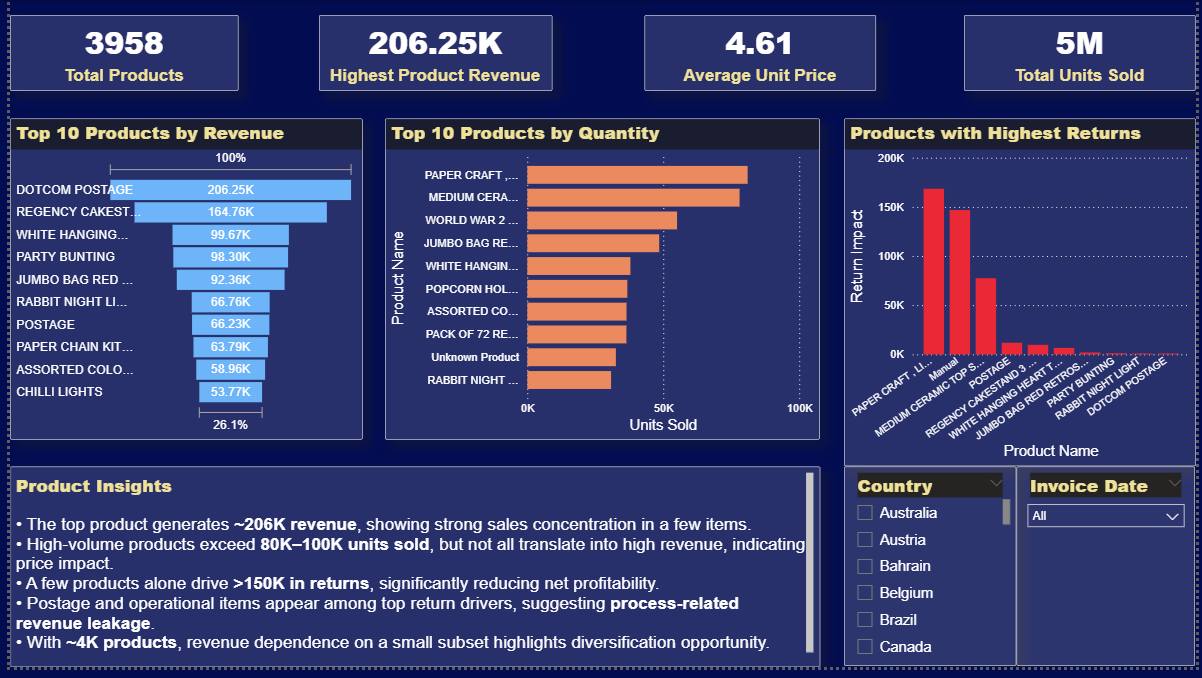

The dashboard page shown, as its layout file describes it:
{"tool":"powerbi","page":{"name":"Product Performance ","canvas":[1280,720],"ordinal":2},"visuals":[{"type":"card","fields":{"Values":["uk_ecommerce_bi_ready.Total Products"]},"box":[0,16.7,246.7,81.7],"z":0},{"type":"card","fields":{"Values":["uk_ecommerce_bi_ready.Top Product Revenue"]},"box":[333.3,16.7,251.7,81.7],"z":1000},{"type":"card","fields":{"Values":["Avg(uk_ecommerce_bi_ready.UnitPrice)"]},"box":[685,16.7,250,81.7],"z":2000},{"type":"card","fields":{"Values":["Sum(uk_ecommerce_bi_ready.Quantity)"]},"box":[1030,16.7,250,81.7],"z":3000},{"type":"clusteredBarChart","title":"Top 10 Products by Quantity","fields":{"Category":["uk_ecommerce_bi_ready.Description"],"Y":["Customer Summary.Units Sold"]},"box":[404.8,127.9,469.6,346.5],"z":4000},{"type":"funnel","title":"Top 10 Products by Revenue","fields":{"Category":["uk_ecommerce_bi_ready.Description"],"Y":["uk_ecommerce_bi_ready.Total Revenue"]},"box":[0,127.9,380.5,346.5],"z":5000},{"type":"clusteredColumnChart","title":"Products with Highest Returns","fields":{"Category":["uk_ecommerce_bi_ready.Description"],"Y":["uk_ecommerce_bi_ready.Product Return Impact"]},"box":[900,128.3,380,375],"z":6000},{"type":"textbox","box":[0,503.6,874.4,217],"z":7000},{"type":"slicer","fields":{"Values":["uk_ecommerce_bi_ready.Country"]},"box":[900.3,503.6,186.2,215.4],"z":8000},{"type":"slicer","fields":{"Values":["uk_ecommerce_bi_ready.InvoiceDate"]},"box":[1086.5,503.6,192.7,215.4],"z":9000}]}

Visuals, with their boxes in screenshot pixels (x1, y1, x2, y2), scaled from the page's 1280x720 canvas onto the 1202x678 screenshot:
card - uk_ecommerce_bi_ready.Total Products: 0,16,232,93
card - uk_ecommerce_bi_ready.Top Product Revenue: 313,16,549,93
card - Avg(uk_ecommerce_bi_ready.UnitPrice): 643,16,878,93
card - Sum(uk_ecommerce_bi_ready.Quantity): 967,16,1201,93
"Top 10 Products by Quantity" clusteredBarChart: 380,120,821,447
"Top 10 Products by Revenue" funnel: 0,120,357,447
"Products with Highest Returns" clusteredColumnChart: 845,121,1201,474
textbox: 0,474,821,677
slicer - uk_ecommerce_bi_ready.Country: 845,474,1020,677
slicer - uk_ecommerce_bi_ready.InvoiceDate: 1020,474,1201,677
